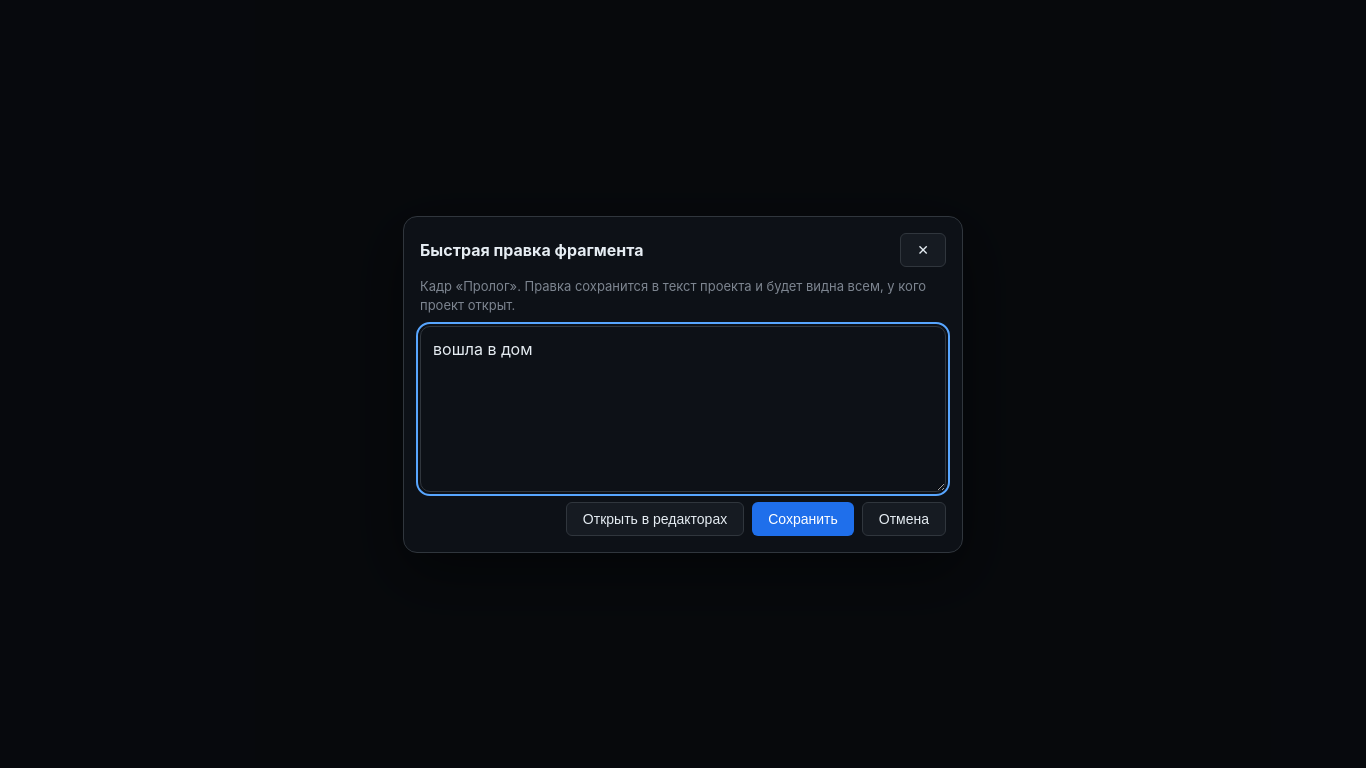
QuickEditWindow › не пишет поверх чужой правки: текст на месте смещений уже другой
The image size is (1366, 768).
Click the button "Сохранить": (803, 518) [752,502,854,536]
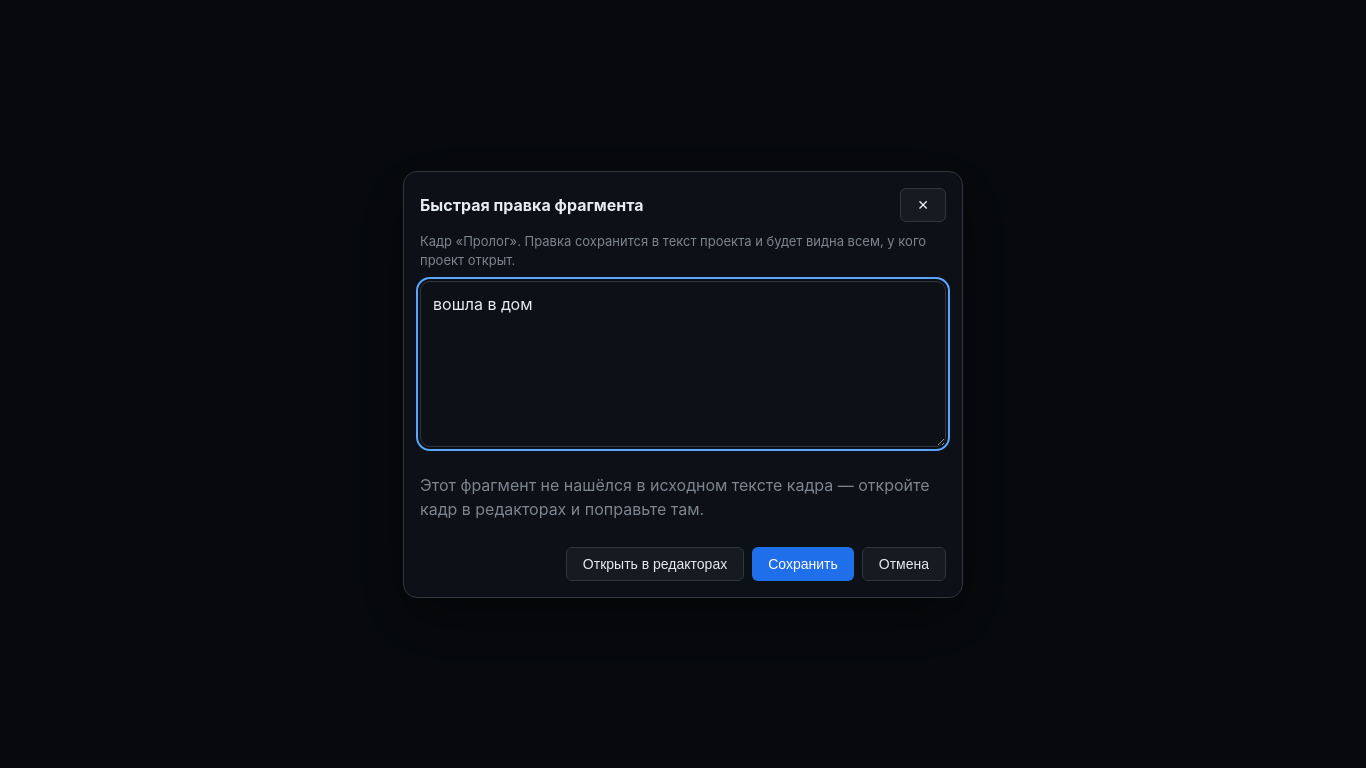
expect the message shows "не нашёлся": met, box [420,474,930,518]
